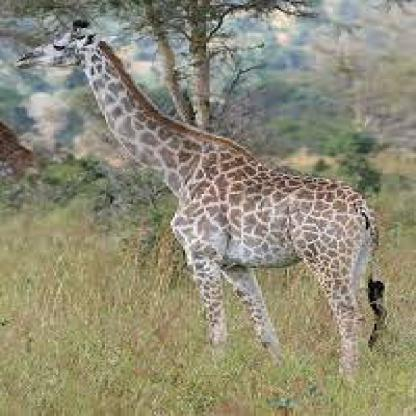giraffe: (15, 15, 384, 386)
